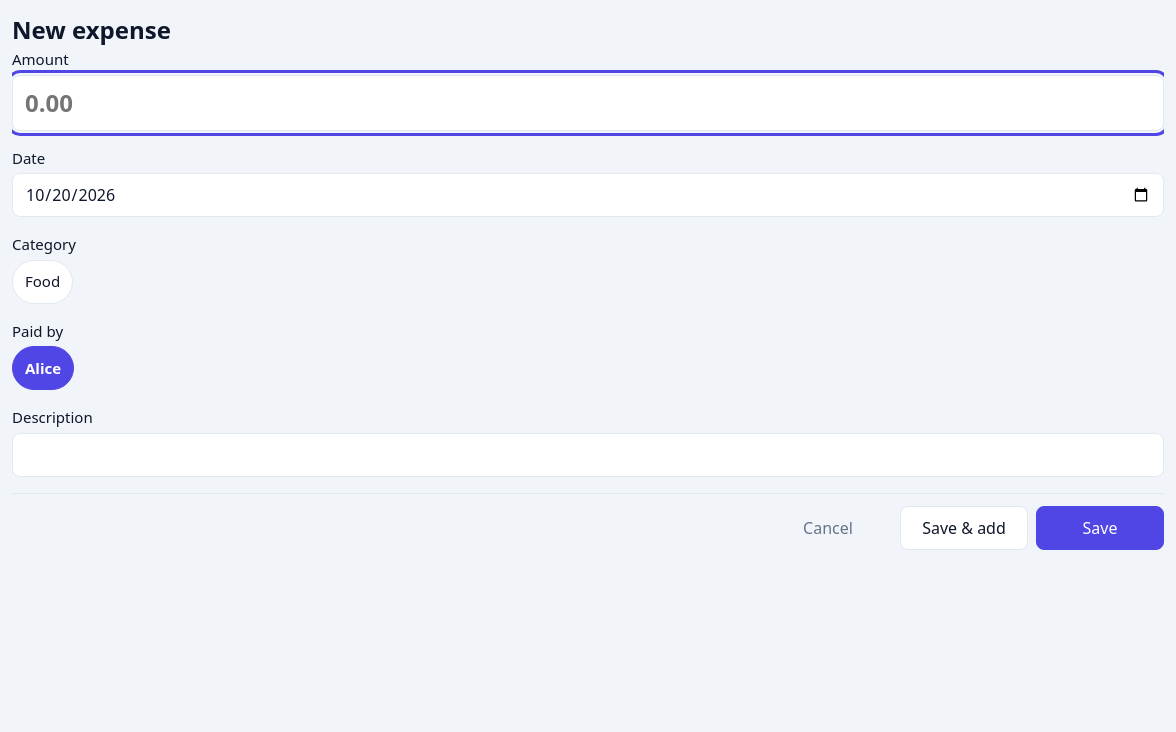
BudgetExpenseFormPage › flags a malformed amount as soon as the field loses focus
Type "12,3,4" into the field labelled "Amount".
click(588, 102); type("12,3,4")  # box [12, 74, 1164, 130]
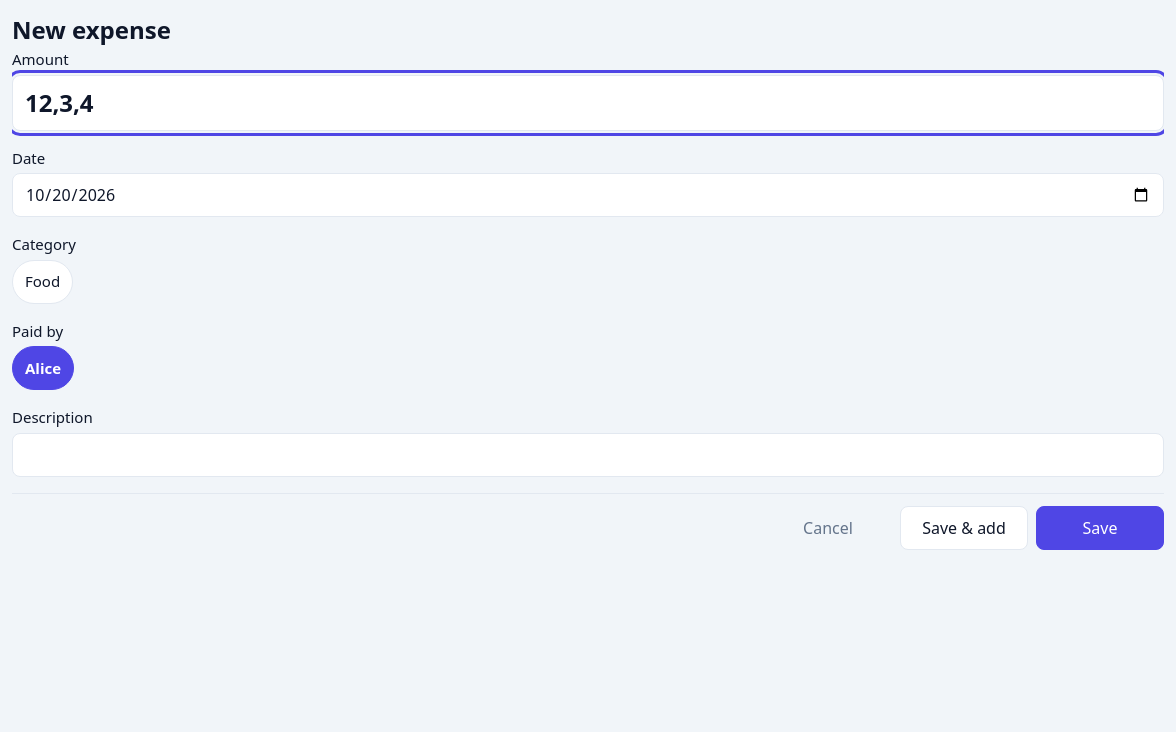
Press Tab
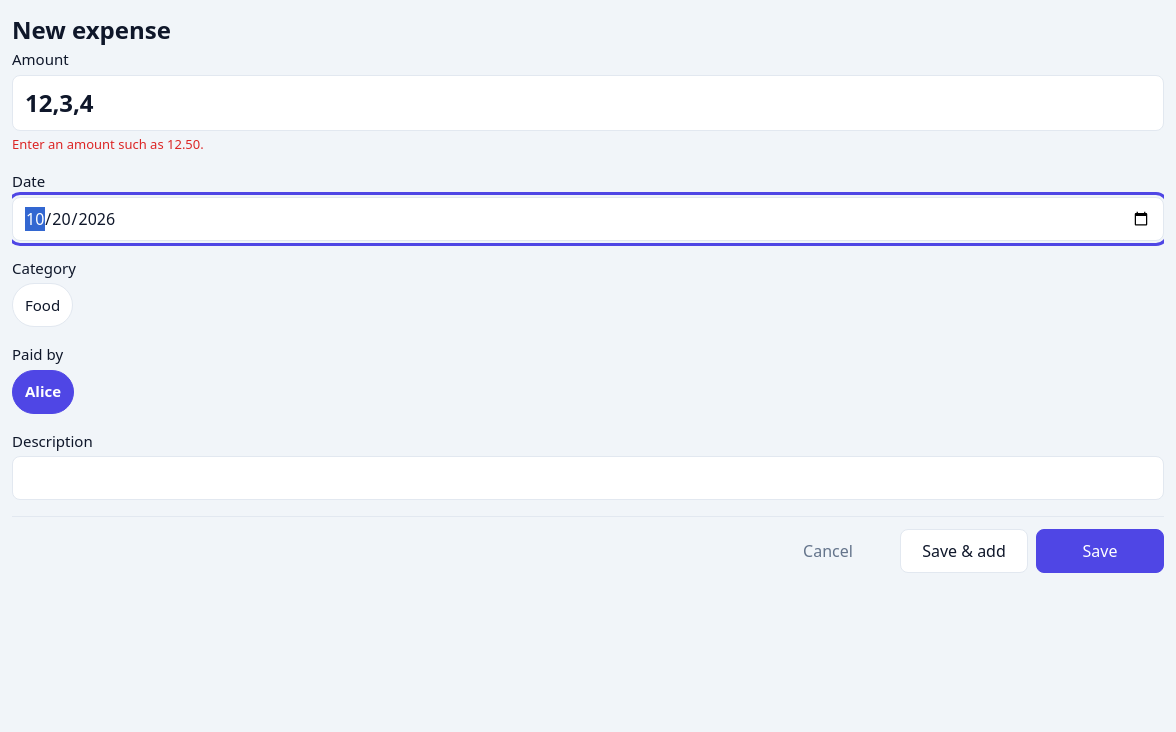
Result: the message reads "Enter an amount such as 12.50." at [12, 134, 204, 152]
